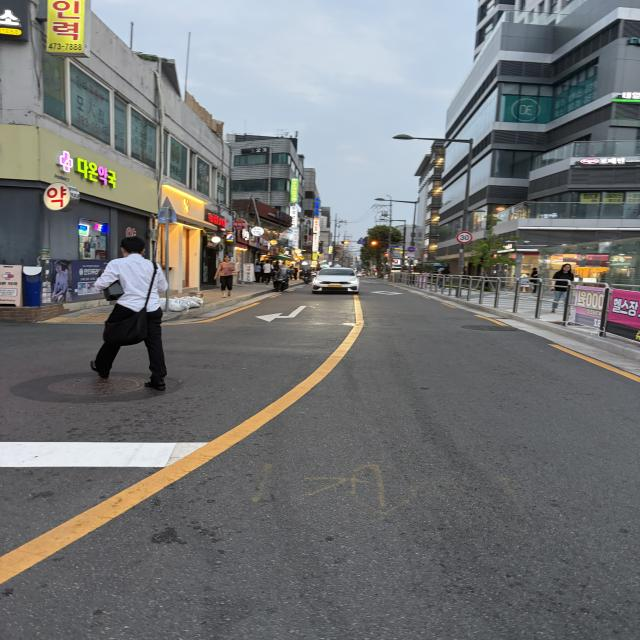car: (305, 262, 362, 299)
